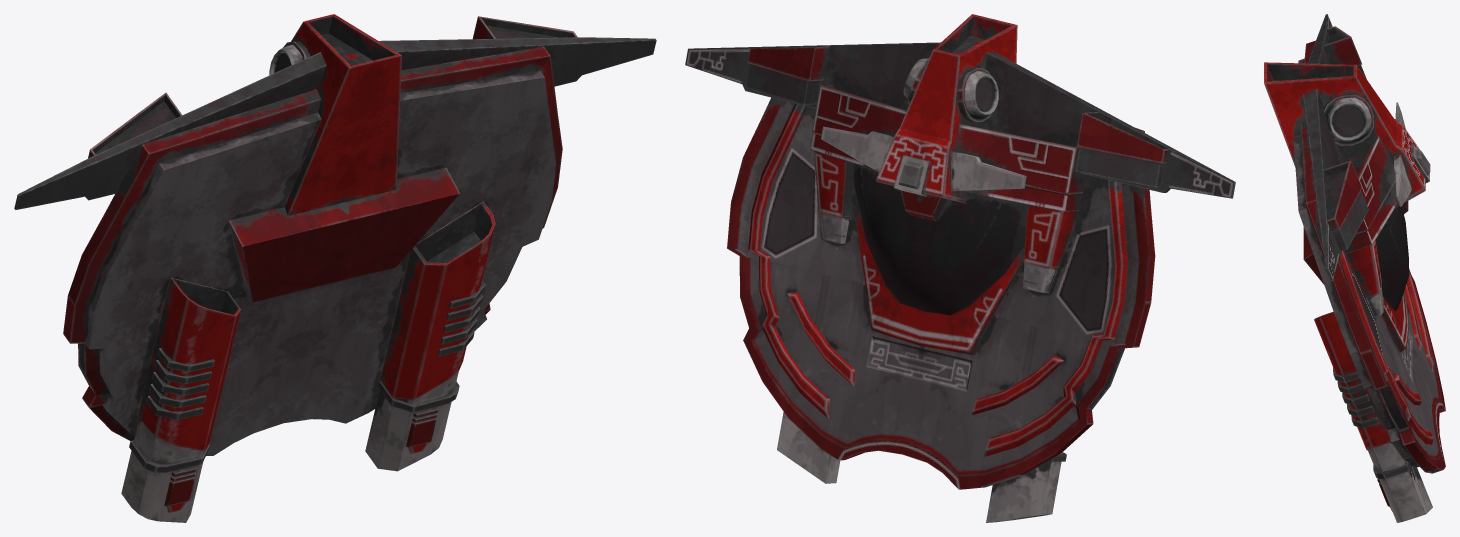
File: Pancake.fbx
The picture shows the model from 3 angles, left to right: view 1: azimuth 30°, elevation 25°; view 2: azimuth 150°, elevation 25°; view 3: azimuth 270°, elevation 25°; orthographic projection. The views are drawn at different scales.
Visible parts, largest first — view 1: Pancake; view 2: Pancake; view 3: Pancake.
Part boxes in pixels (box(x1,y1,x2,y2)): Pancake: box(14, 14, 656, 522); Pancake: box(685, 14, 1235, 522); Pancake: box(1264, 14, 1445, 522).
Bounding box in the file's own units: 443 × 331 × 135.
